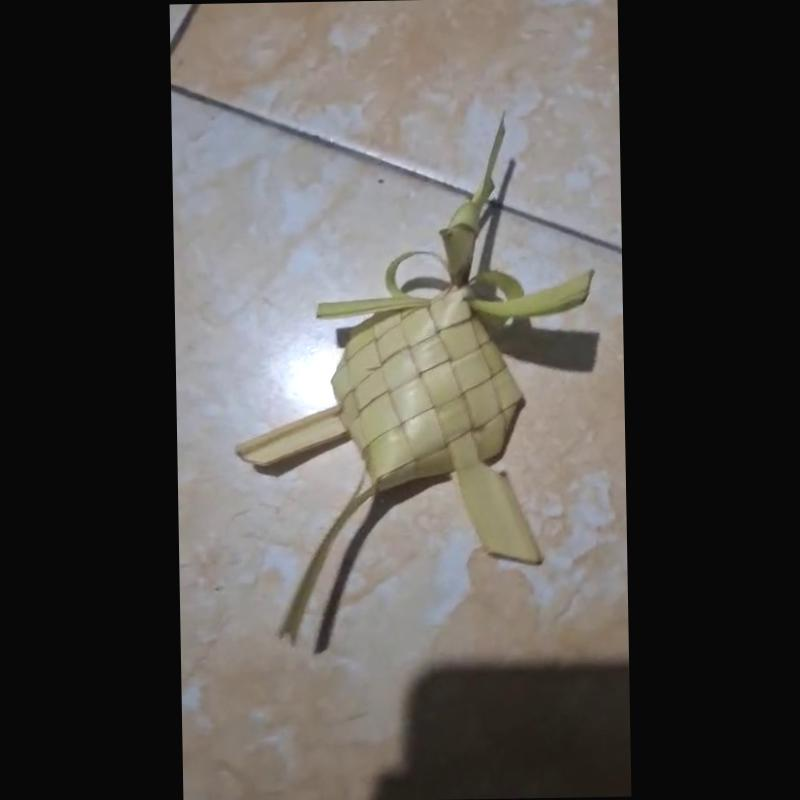Tipat Dampulan: (236, 113, 599, 654)
